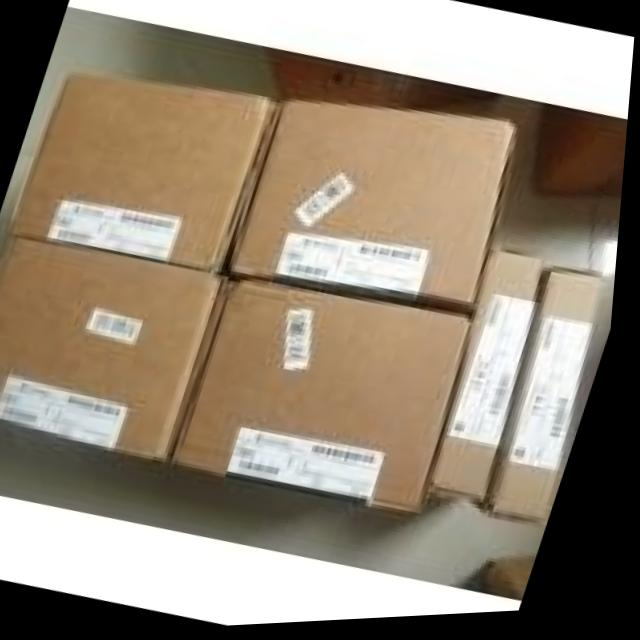box: (181, 279, 478, 520), (228, 101, 522, 317), (13, 73, 280, 279), (0, 231, 235, 459), (490, 274, 611, 529), (435, 257, 551, 509), (269, 52, 499, 119), (537, 113, 630, 198), (477, 561, 542, 600)
